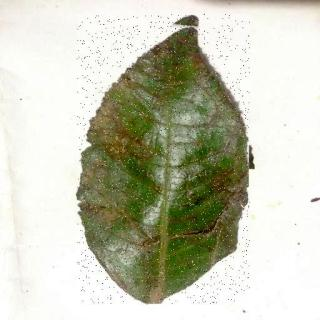Red Leaf Spot: (79, 15, 252, 305)
